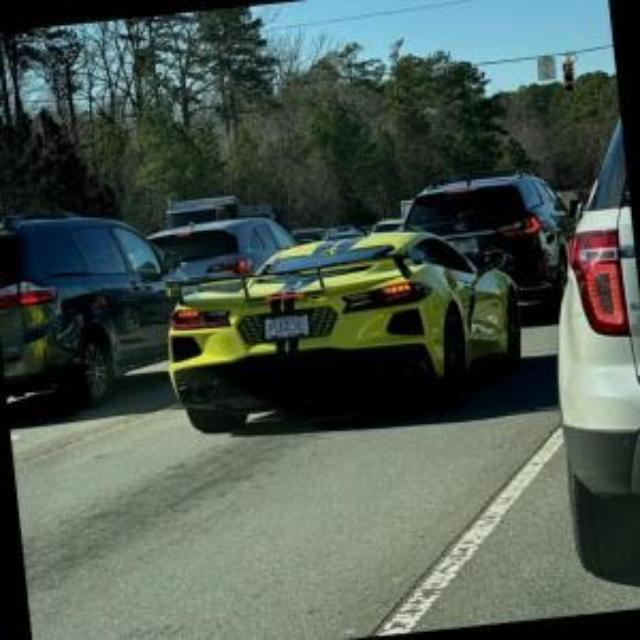License Plate: (264, 312, 311, 342)
